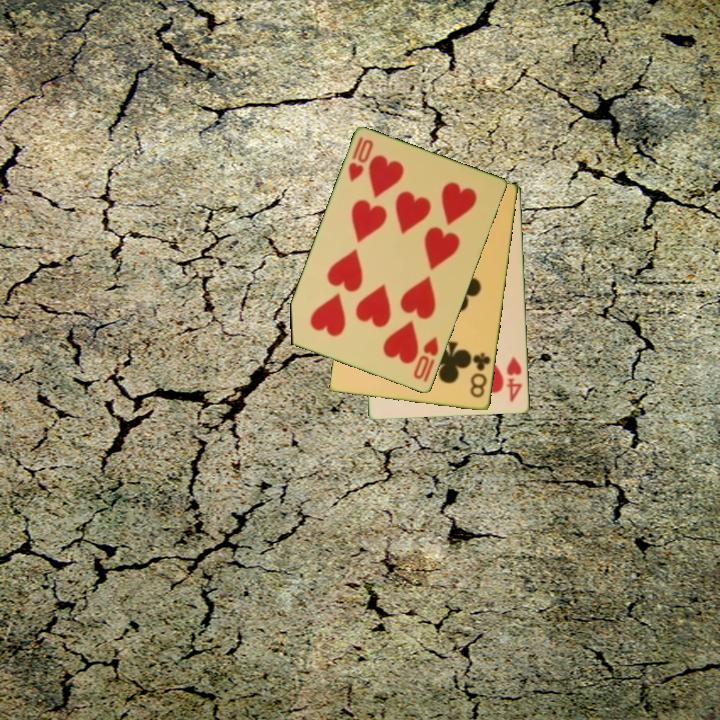10h: (345, 133, 376, 185), (410, 333, 442, 383)
4h: (503, 353, 526, 405)
8c: (467, 349, 494, 401)
